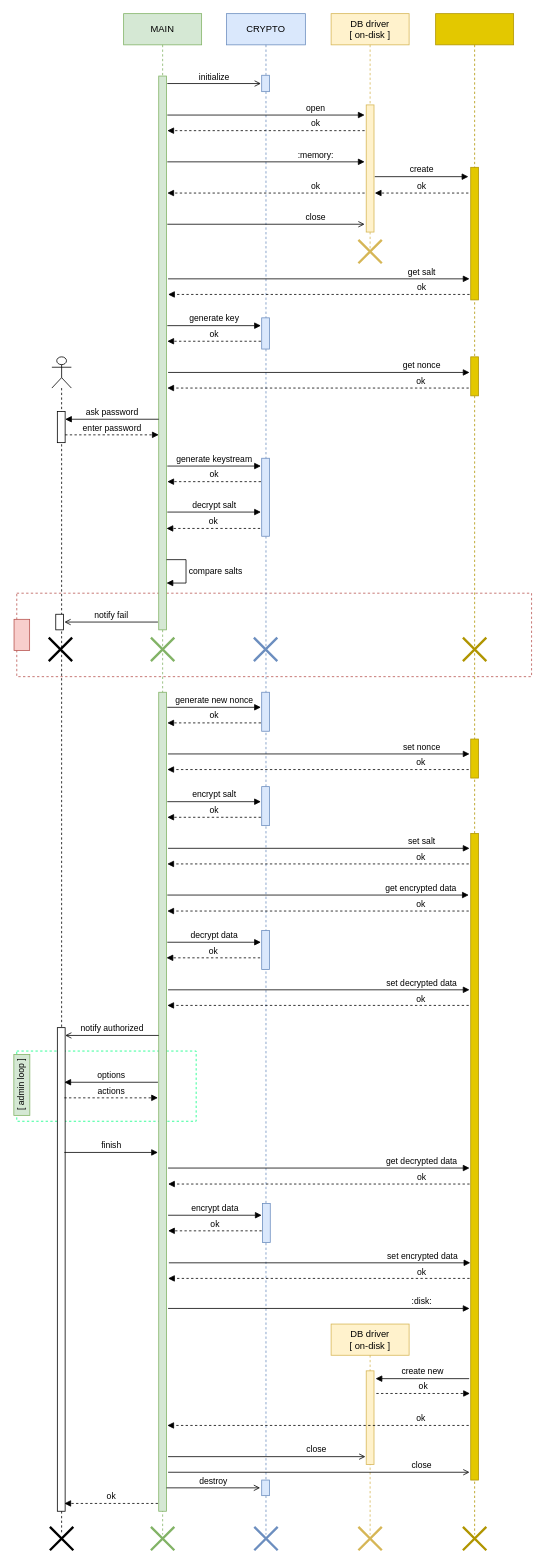
Image size: 545x1565. Some labels were removed from this diagram. Here are the shapes that lost their labels. From the top down, the centre of each, then its label:
At (21,635): "[ fail ]".
At (474,774): "DB driver [ in-memory ]".
